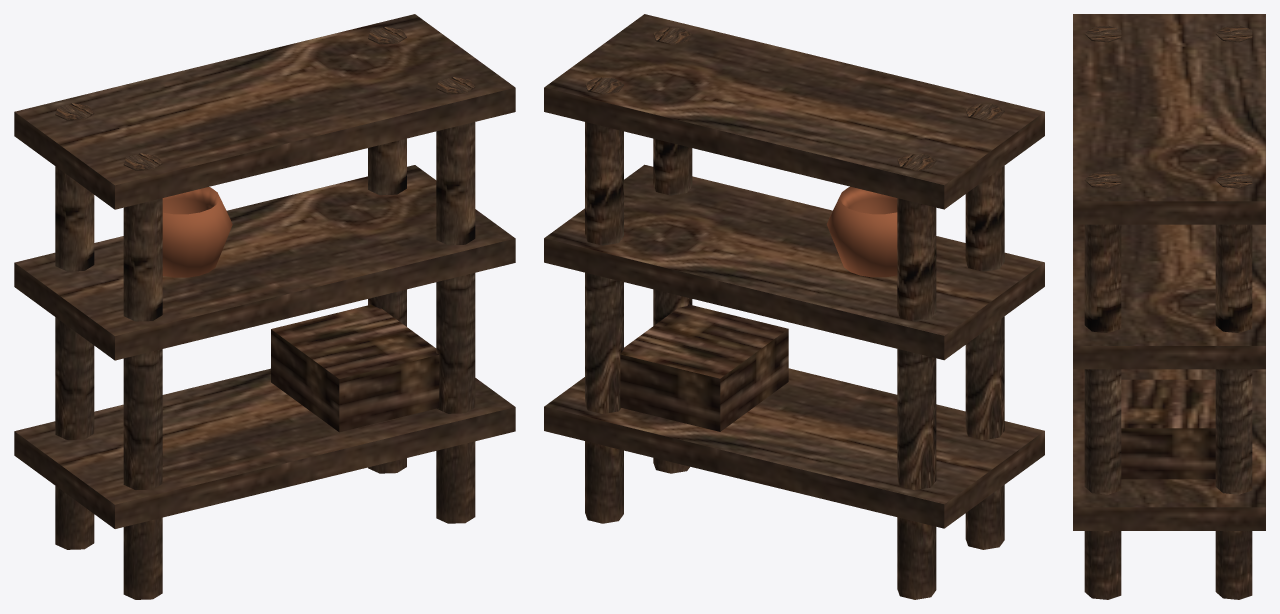
File: shelf.glb
3 views of the same model, side by side, from view 1: azimuth 30°, elevation 25°; view 2: azimuth 150°, elevation 25°; view 3: azimuth 270°, elevation 25° (orthographic). The views are drawn at different scales.
Parts seen in each view (by area): view 1: part_0, part_2, part_1; view 2: part_0, part_2, part_1; view 3: part_0, part_2.
Boxes of the visible parts, left/top/right/bottom form: part_0: left=14, top=14, right=515, bottom=599; part_2: left=271, top=304, right=439, bottom=432; part_1: left=162, top=187, right=232, bottom=277; part_0: left=544, top=14, right=1044, bottom=599; part_2: left=620, top=304, right=788, bottom=431; part_1: left=827, top=186, right=897, bottom=277; part_0: left=1073, top=14, right=1265, bottom=599; part_2: left=1121, top=379, right=1215, bottom=479.
Size of the model in its own units: 0.9452 by 0.97 by 0.411.
3 materials, 2 textured.
